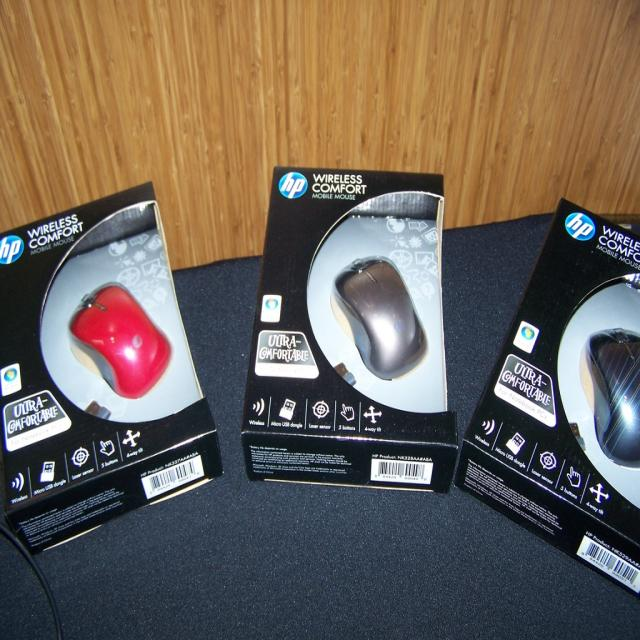HP: (562, 208, 598, 246), (2, 230, 27, 271), (279, 170, 310, 203)
